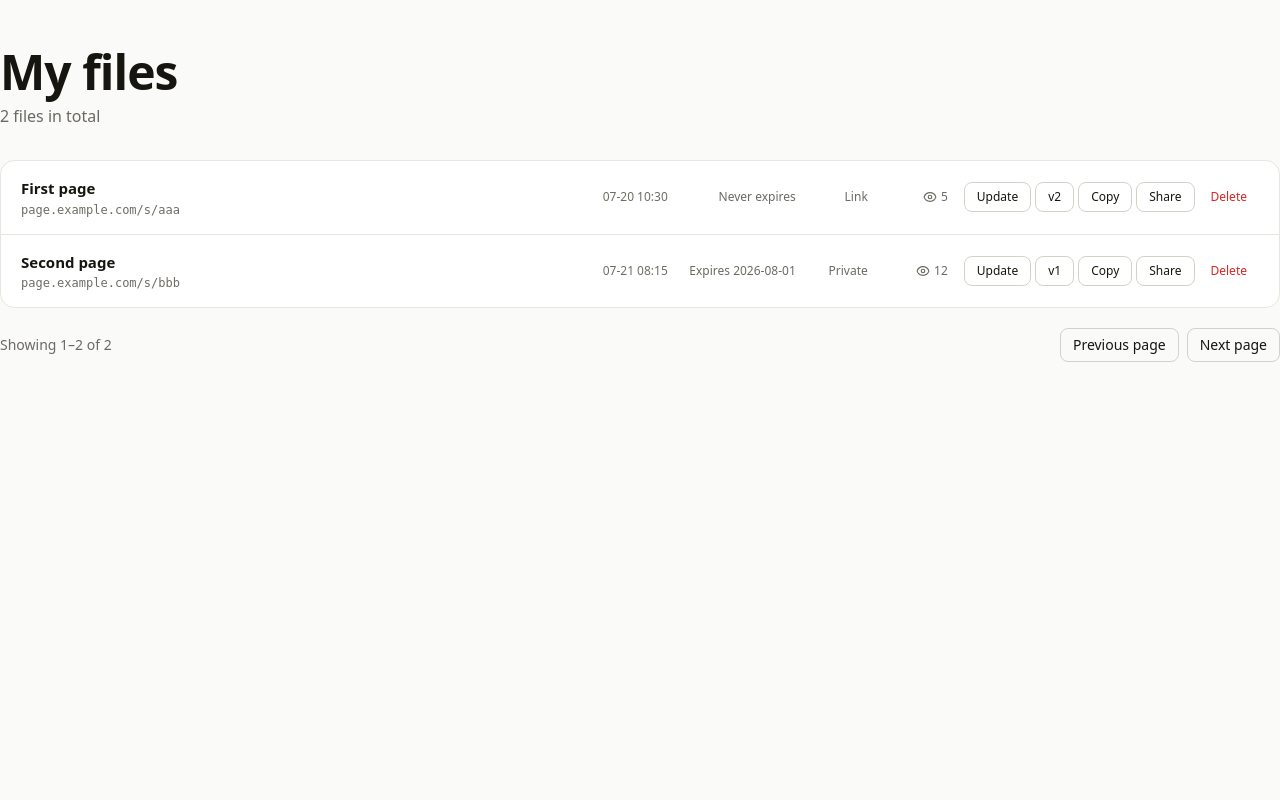
FilesPage › the share button opens ShareDialog seeded with the row visibility
The image size is (1280, 800).
Expected: the text "First page" is shown, [21, 178, 95, 198]
Click the button with aria-label "Share settings: First page": [1165, 197] box [1136, 182, 1194, 212]
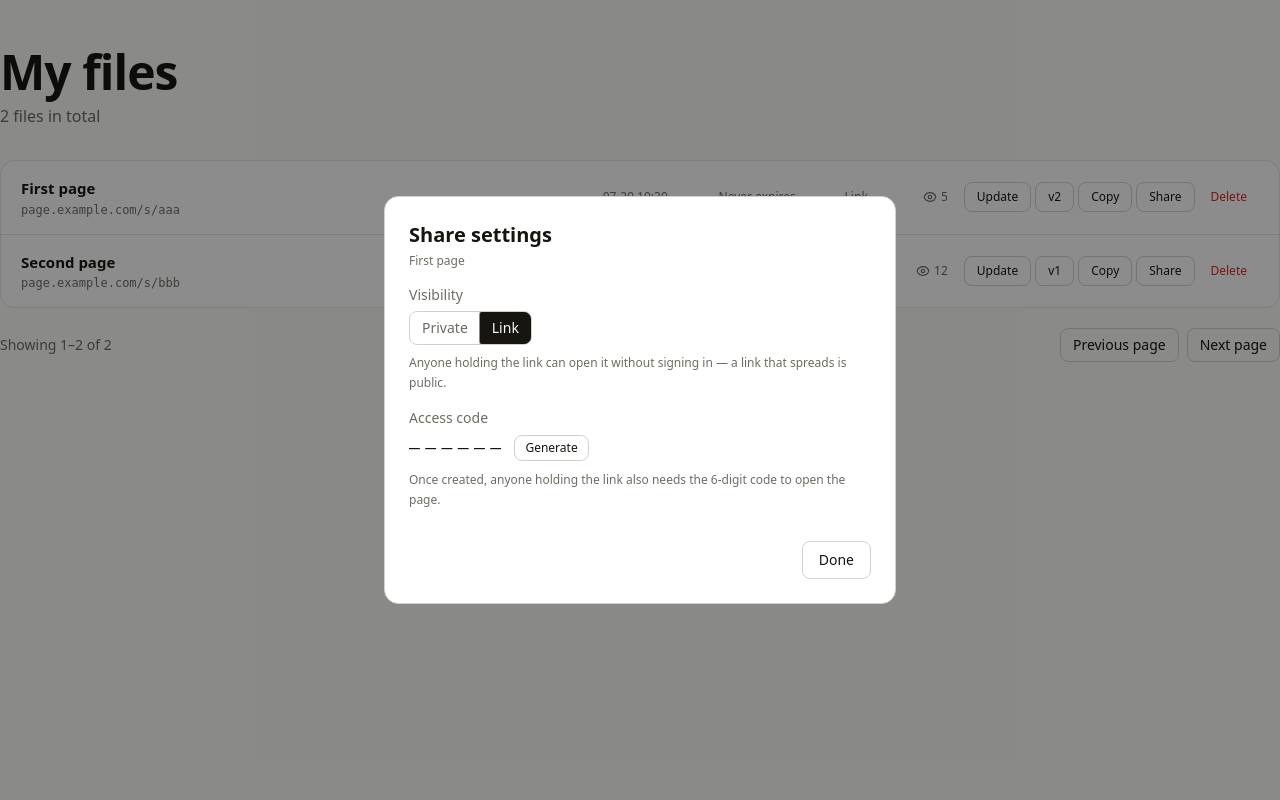
Expected: the text "First page" is shown, [409, 252, 465, 269]
